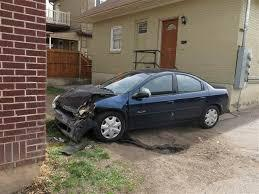bonnet-dent: (64, 85, 111, 108)
fender-dent: (108, 94, 129, 112)
front-bumper-dent: (50, 107, 87, 131)
